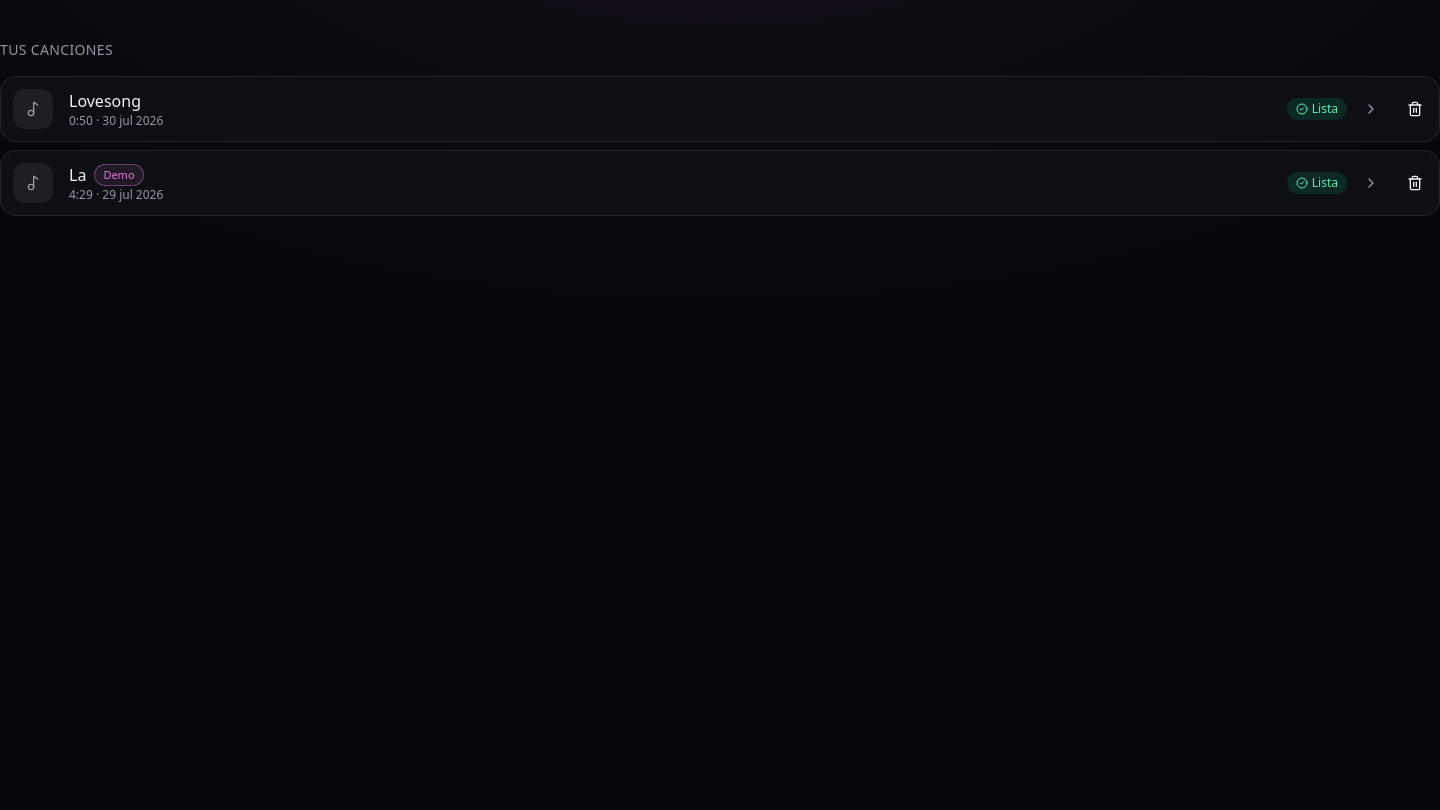
Test: TrackLibrary › deletes a song after confirming
Click the button named "Eliminar" in the row of "Lovesong". click: (1415, 109)
box: [1399, 93, 1431, 125]
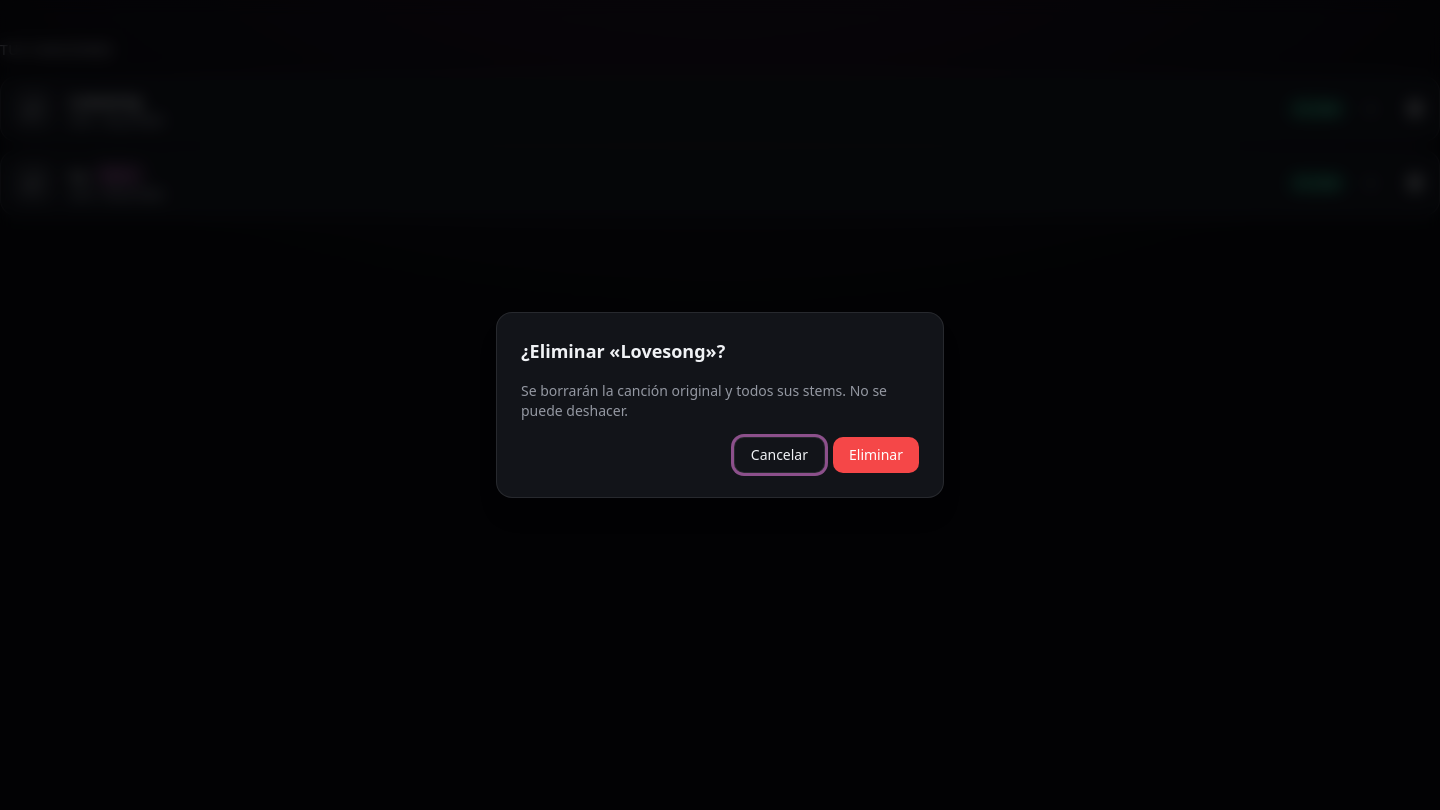
Click the button "Eliminar". click: (876, 455)
box: [833, 437, 919, 473]
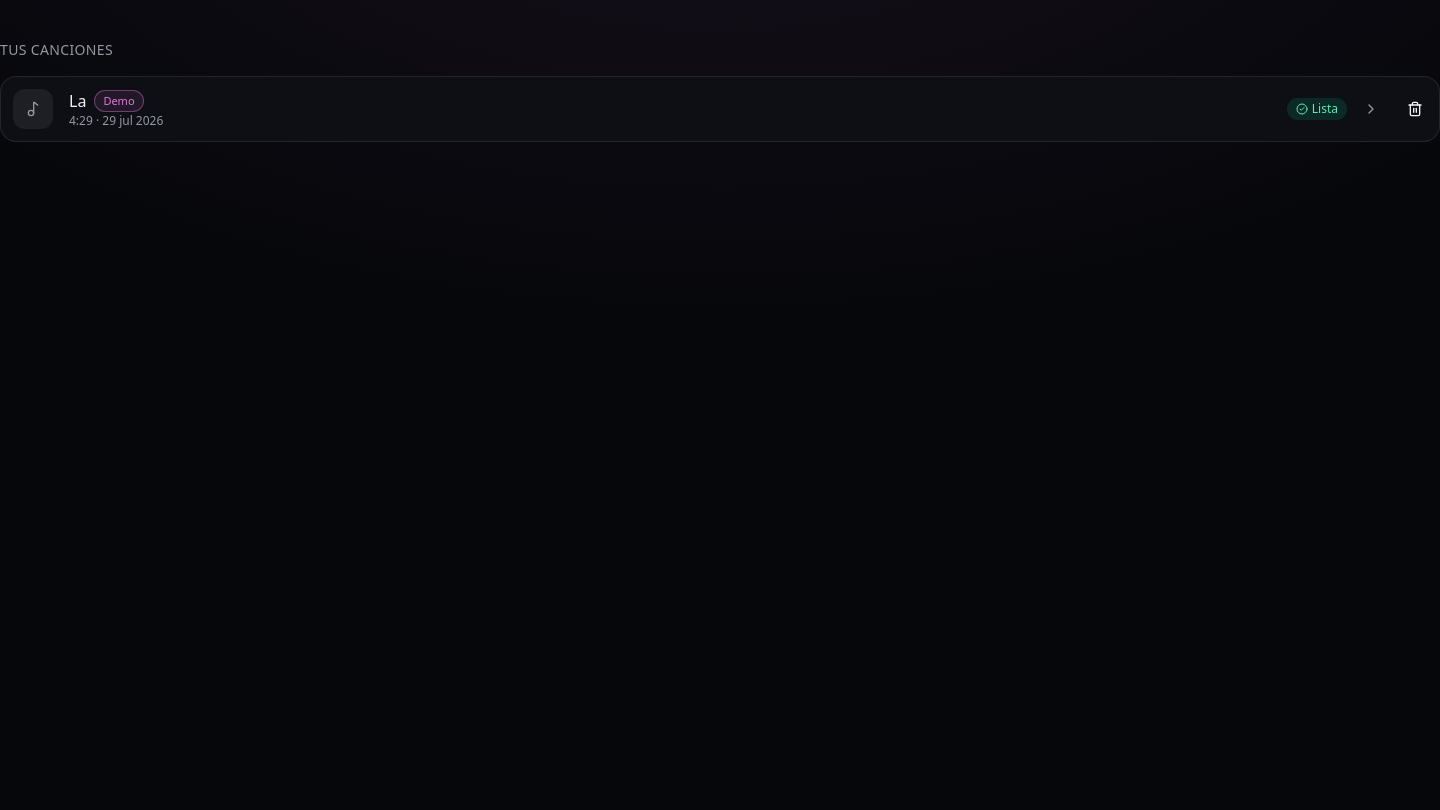
Expected: the link "Lovesong" is gone
